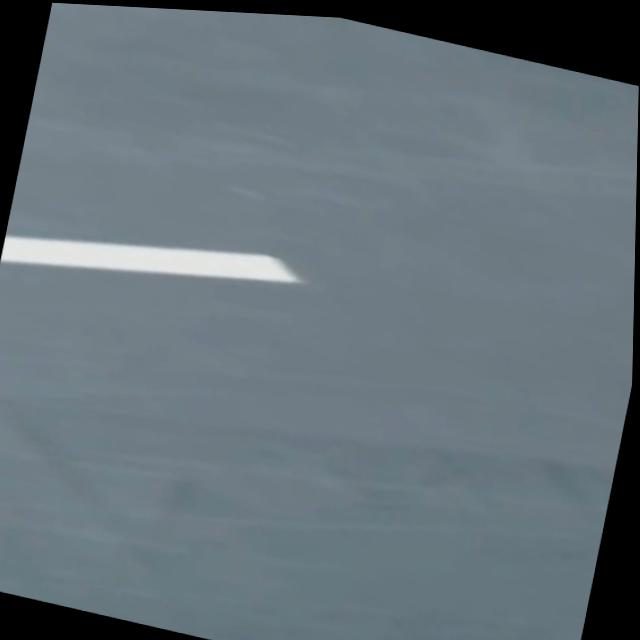center: (0, 235, 301, 283)
